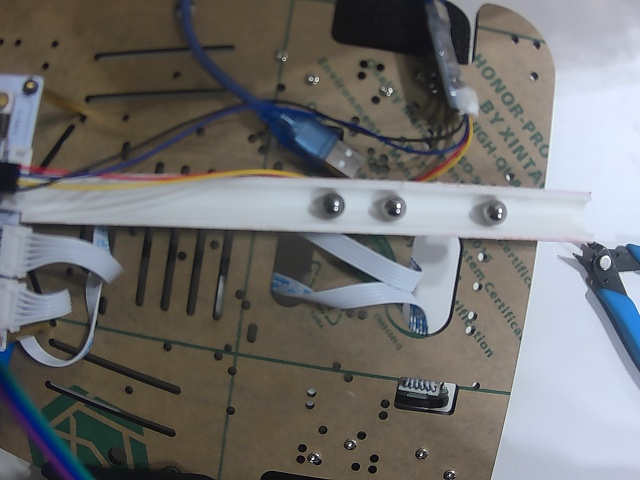steelball: (319, 192, 346, 216), (485, 201, 509, 225), (383, 196, 405, 218)
